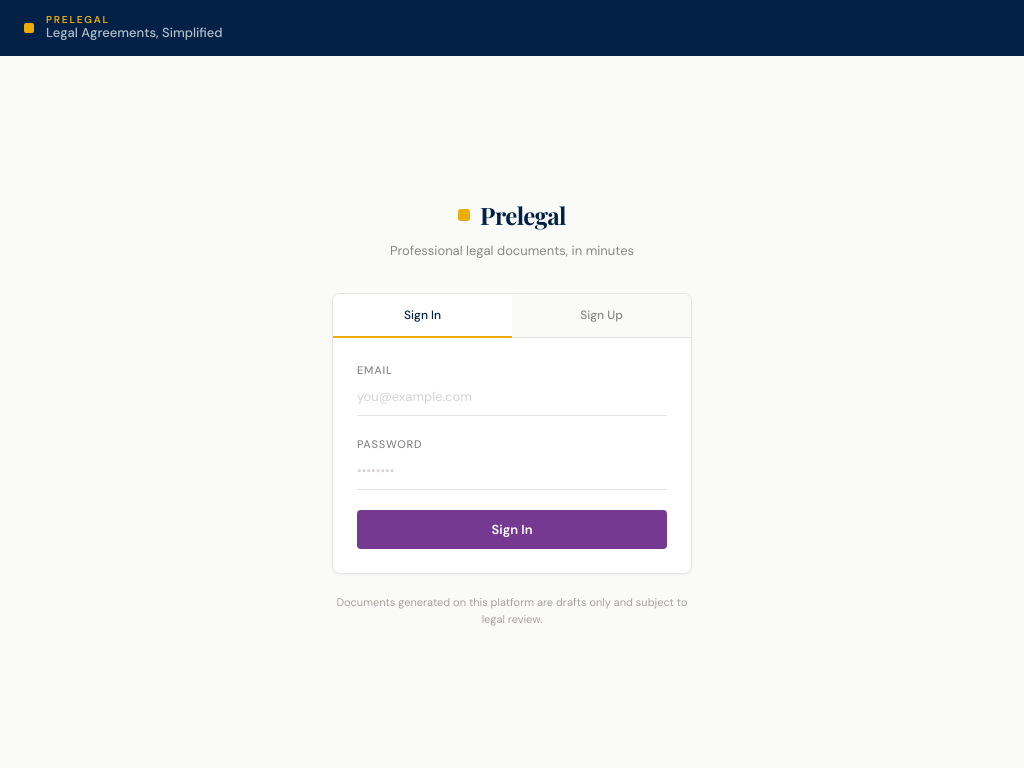
it: LoginPage › shows error message on fetch failure
Type "user@example.com" into the field with placeholder "you@example.com" at (512, 400), box [357, 385, 667, 416]
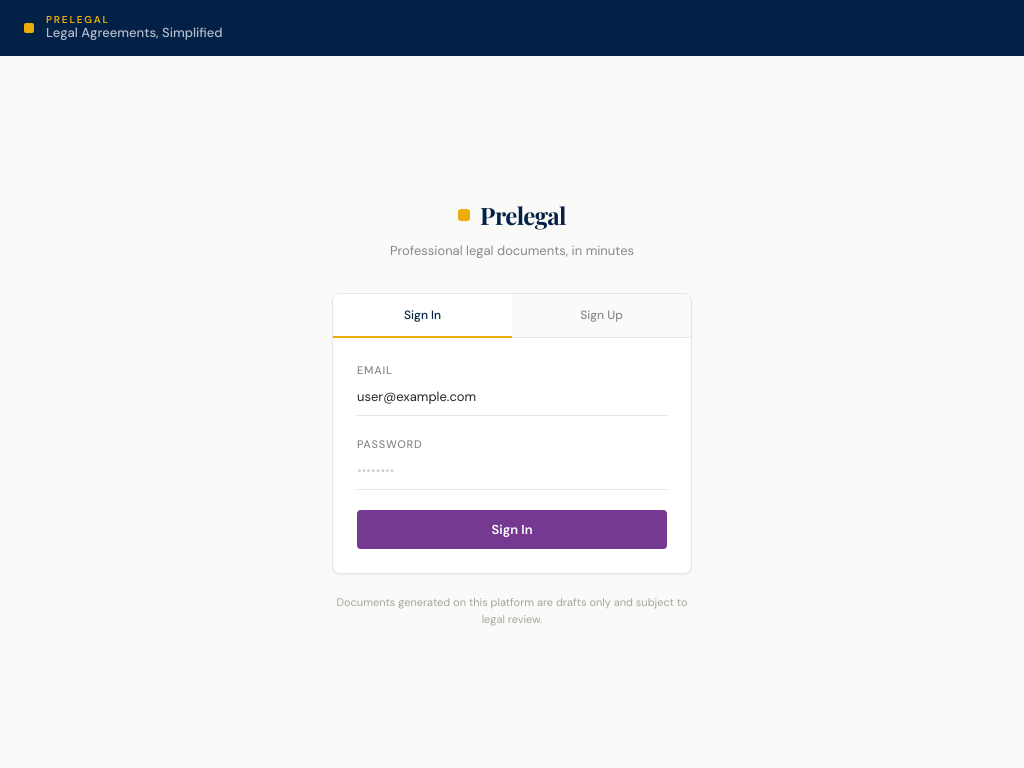
Type "password" into the password field with placeholder "••••••••" at (512, 474), box [357, 459, 667, 490]
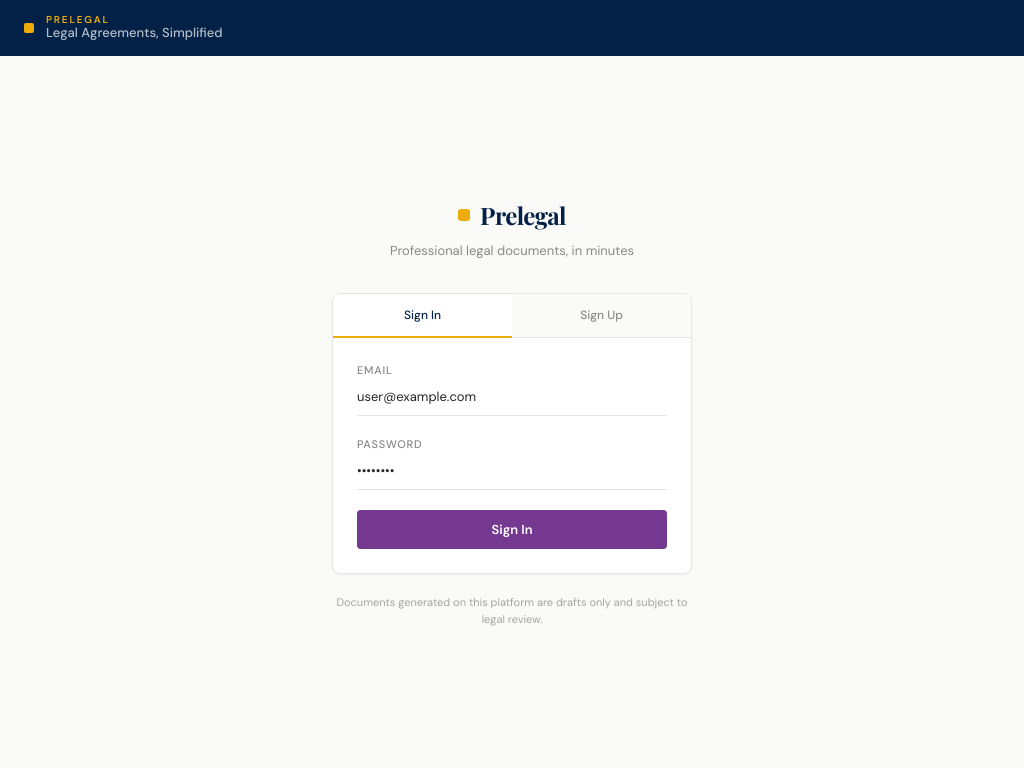
Submit the form, box [333, 338, 691, 573]
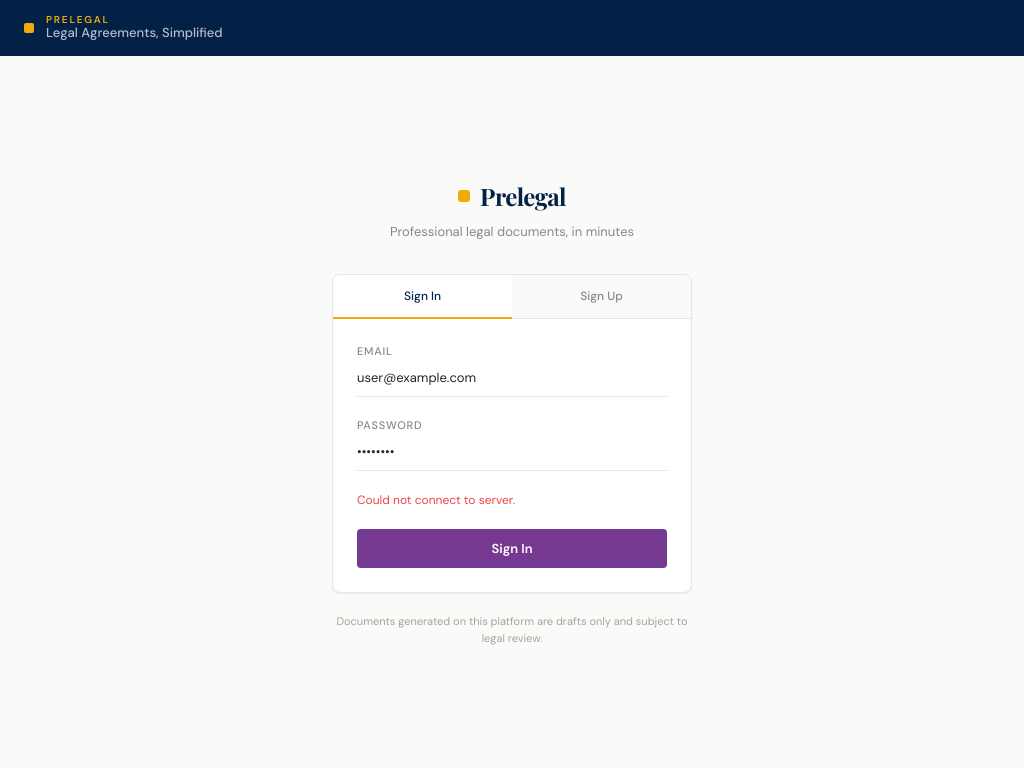
Expected: the text "Could not connect to server." is shown, [357, 492, 515, 508]
